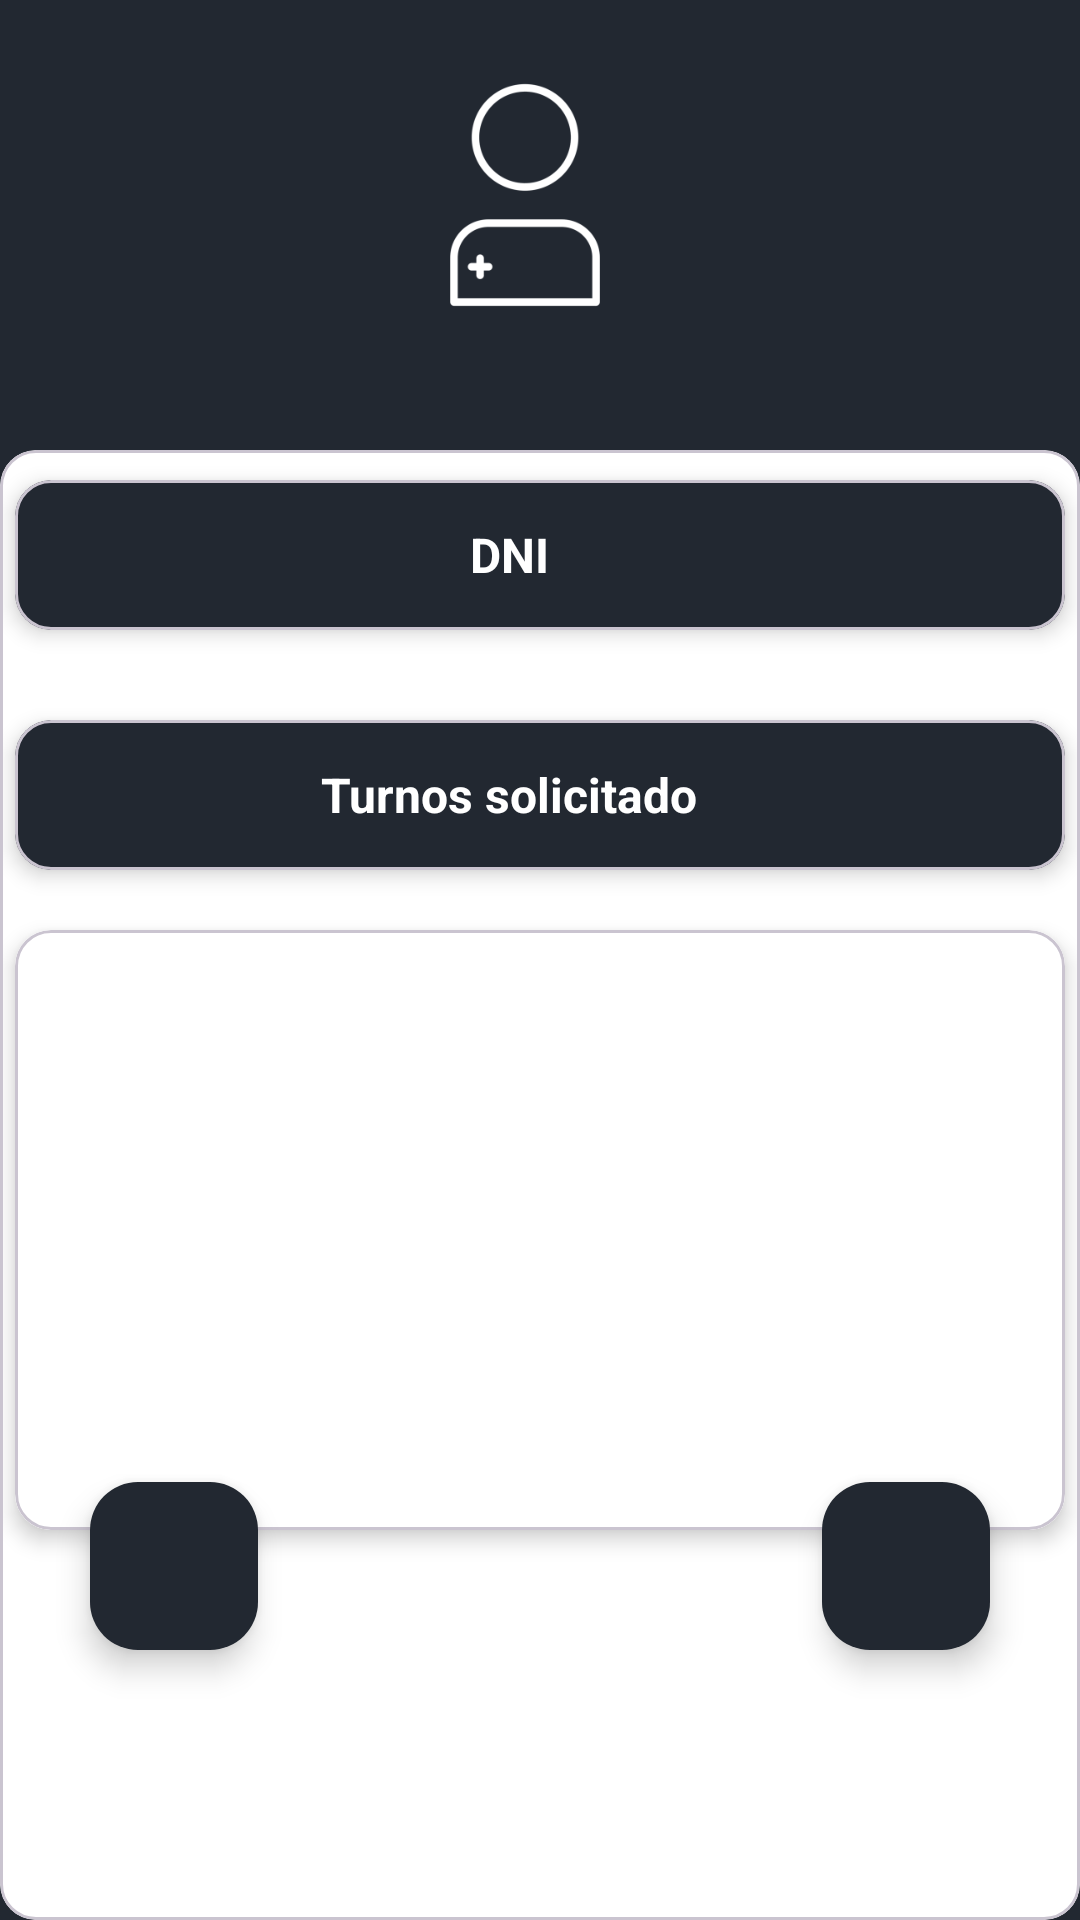

Where to tap for icons on this 1080 × 1920 app screen, as (x=x, y=y):
patient line: (x=525, y=195)
